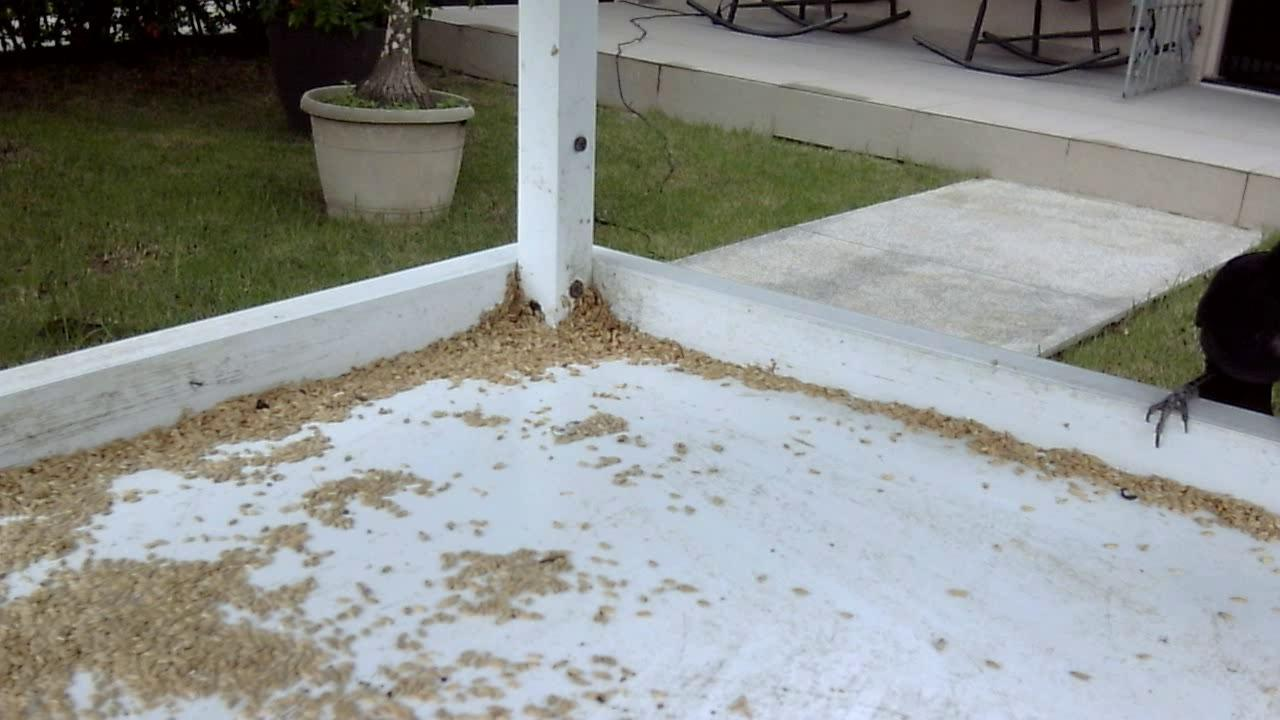chupim: (1139, 220, 1278, 458)
